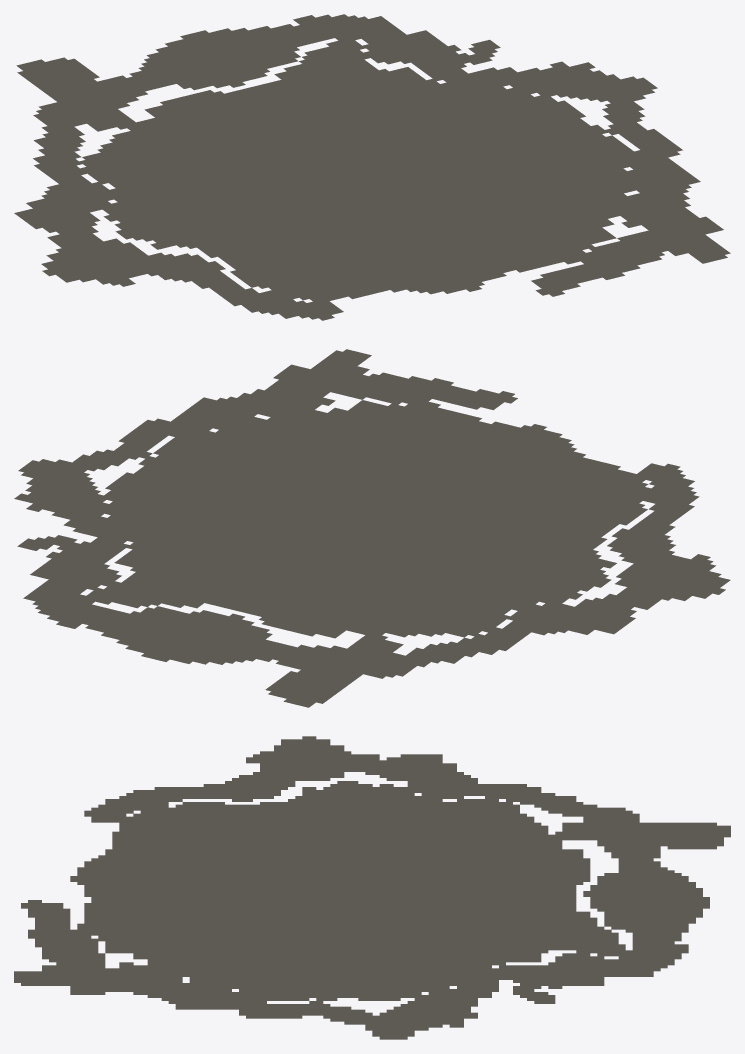
File: Isl-rocky1-NoBuildArea.fbx
3 views of the same model, one above another, from view 1: azimuth 30°, elevation 25°; view 2: azimuth 150°, elevation 25°; view 3: azimuth 270°, elevation 25° (orthographic). The views are drawn at different scales.
Parts seen in each view (by area): view 1: Isl-rocky1-NoBuildArea; view 2: Isl-rocky1-NoBuildArea; view 3: Isl-rocky1-NoBuildArea.
Boxes of the visible parts, left/top/right/bottom form: Isl-rocky1-NoBuildArea: left=14, top=14, right=730, bottom=320; Isl-rocky1-NoBuildArea: left=14, top=349, right=730, bottom=707; Isl-rocky1-NoBuildArea: left=14, top=736, right=730, bottom=1039.
Size of the model in its own units: 102 by 0 by 102.
